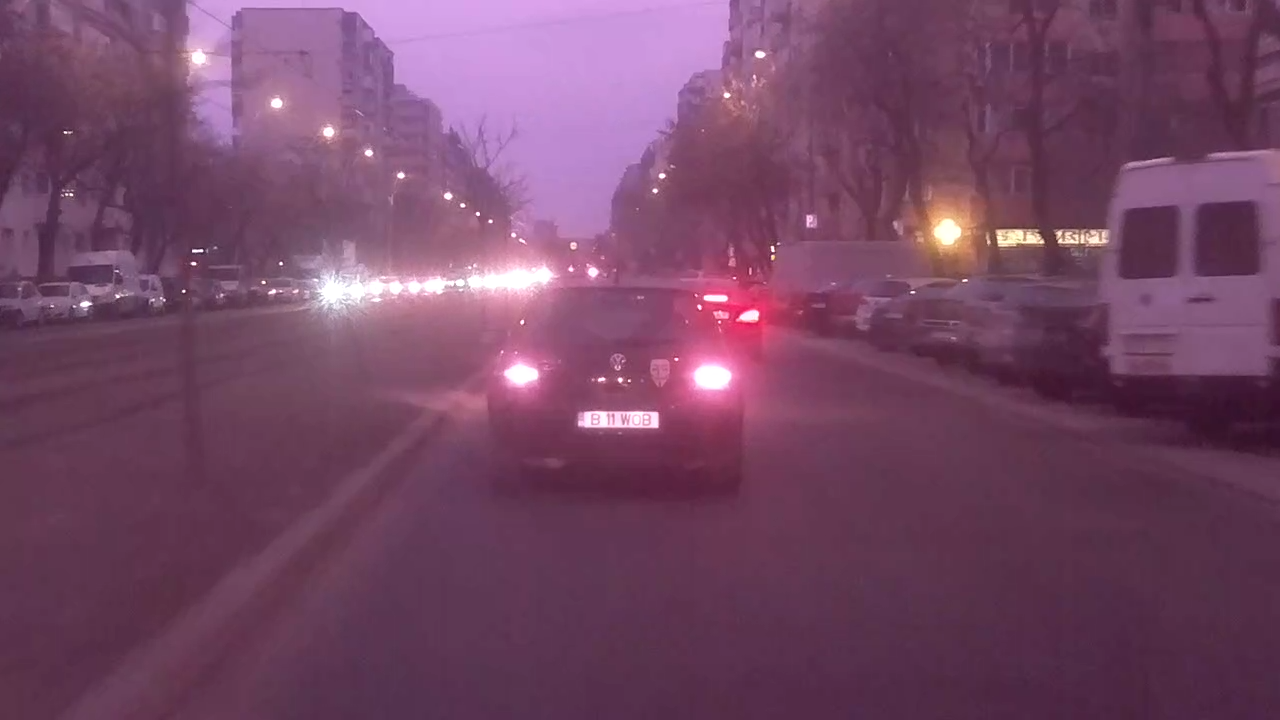license-plate: (572, 409, 662, 431)
